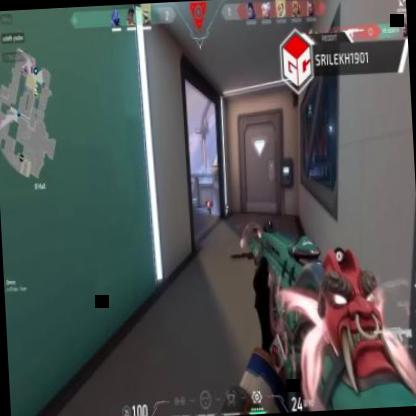enemy: (207, 198, 210, 216)
enemy_head: (207, 198, 209, 202)
